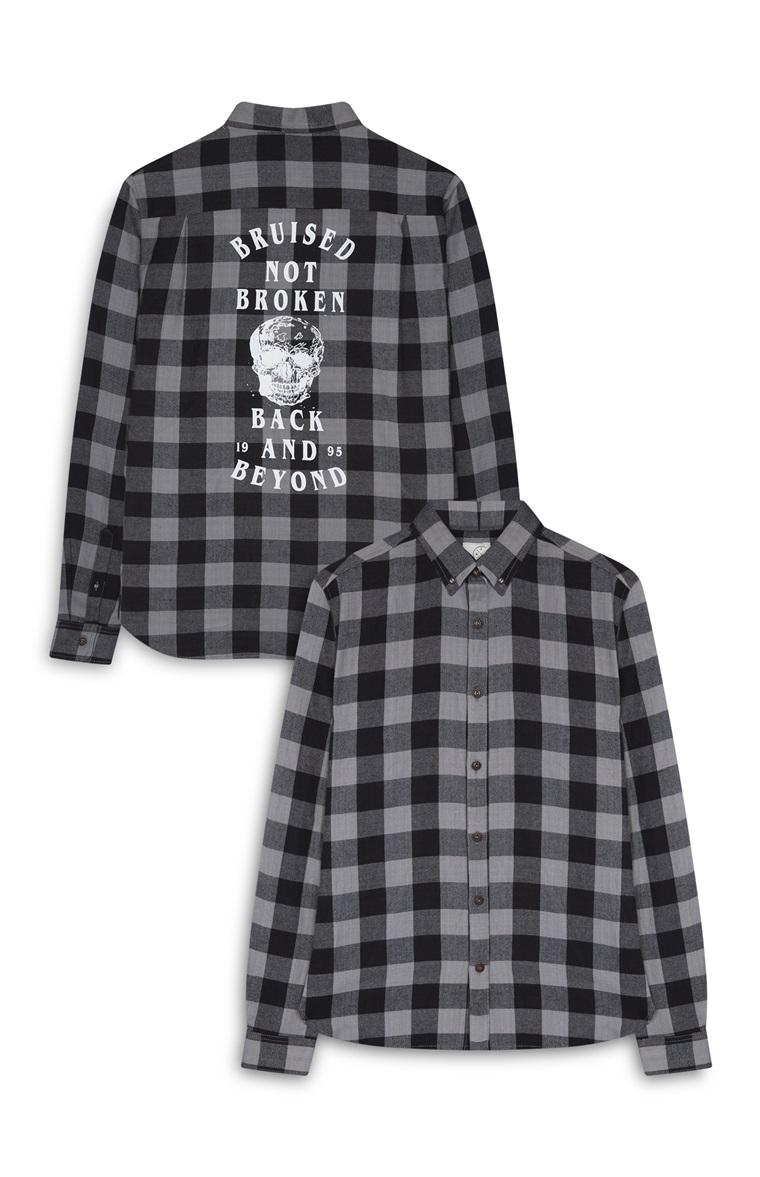teeshirt: (239, 495, 716, 1097), (48, 93, 525, 681)
